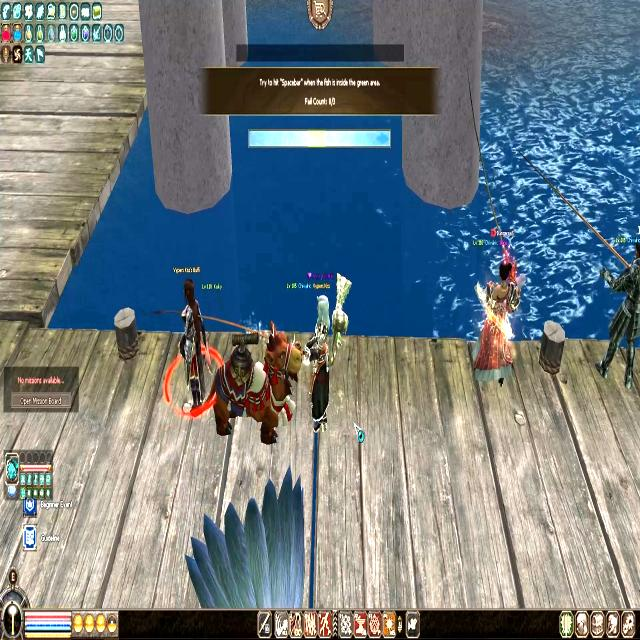fishes: (374, 130, 390, 148)
